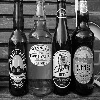beer: (49, 1, 74, 94)
